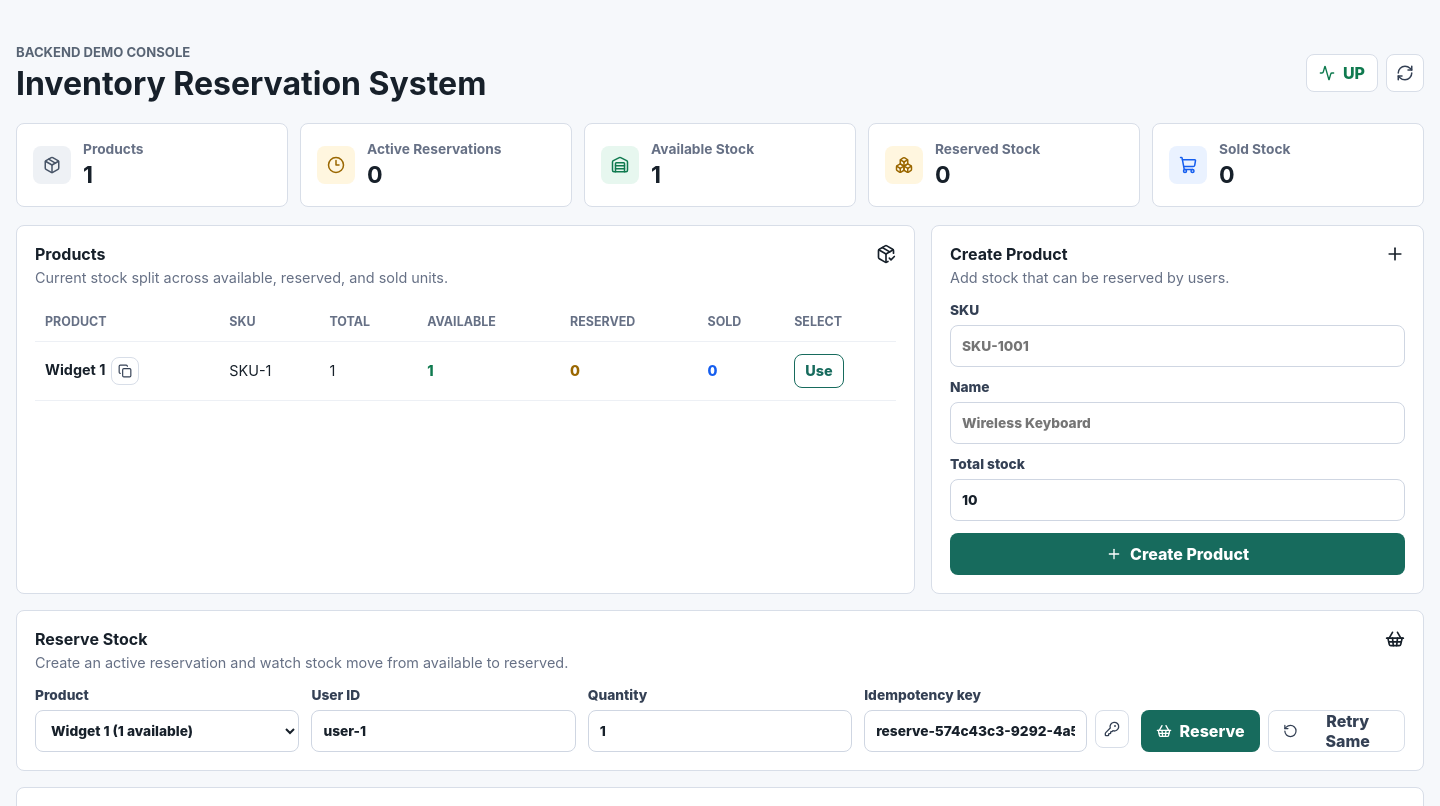
it: honest failures › loads stock despite a 503 health response and replaces a previous UP badge
Expected: the text "UP" is shown, [1343,63,1365,83]
Step 1. Click the button named "Refresh dashboard" → coordinates (1405, 73), box [1386,54,1424,92]
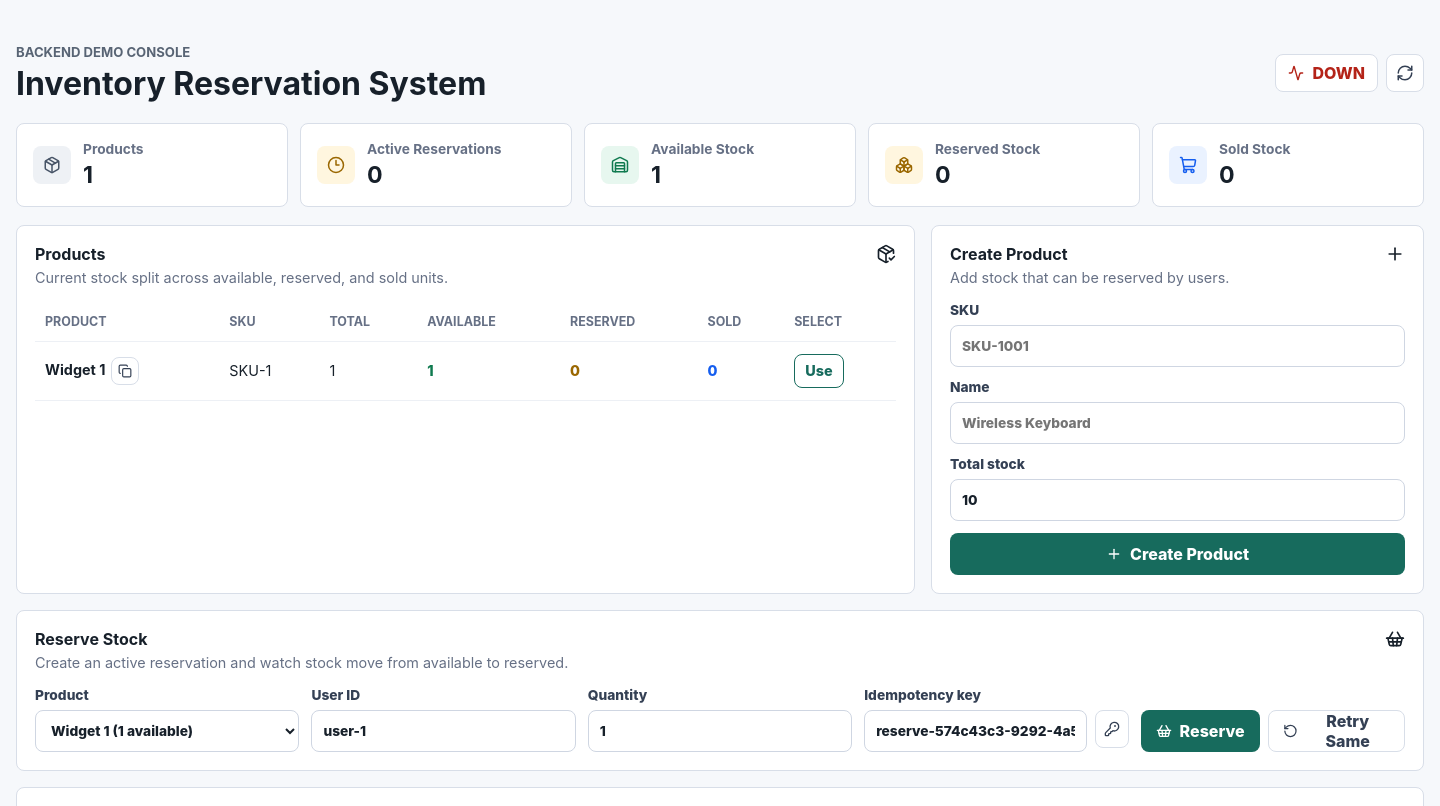
Expected: the text "Widget 1" is shown, [45,361,106,378]
Expected: the text "DOWN" is shown, [1312,63,1365,83]
Expected: the text "UP" is gone
